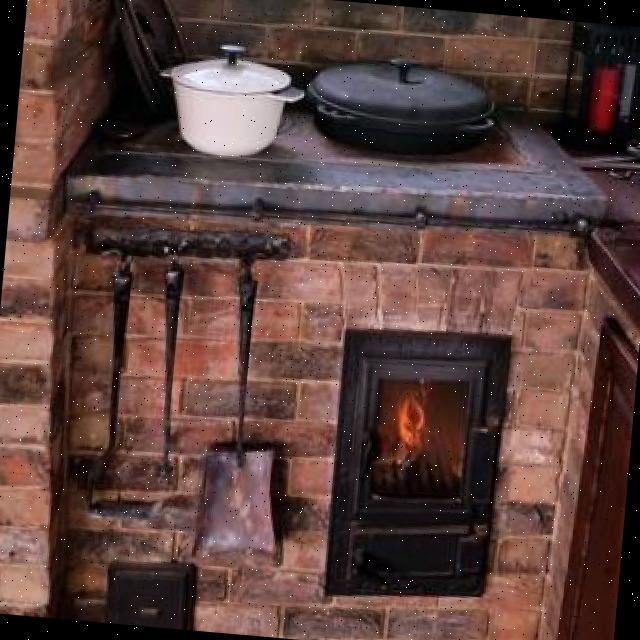fire: (392, 395, 441, 463)
